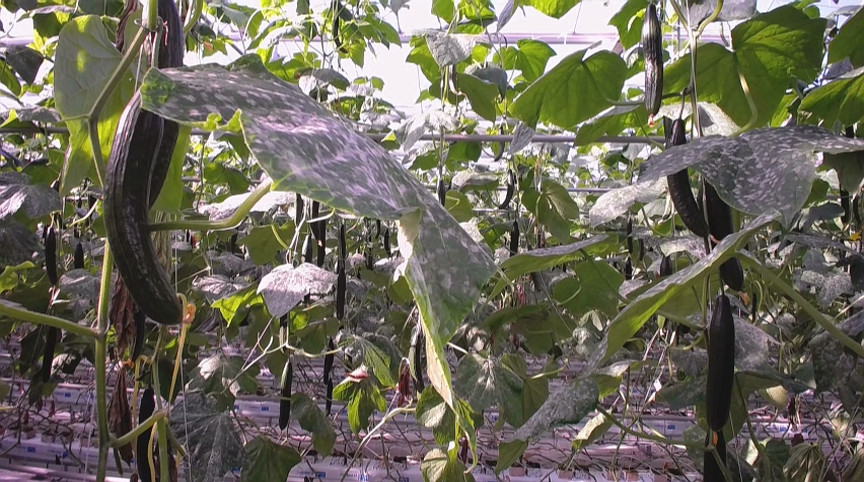cucumber: (104, 86, 182, 323), (148, 1, 184, 210), (665, 117, 710, 238), (707, 182, 744, 288), (705, 294, 731, 429), (643, 3, 663, 112), (278, 362, 295, 430), (700, 448, 732, 482), (45, 225, 58, 287)
